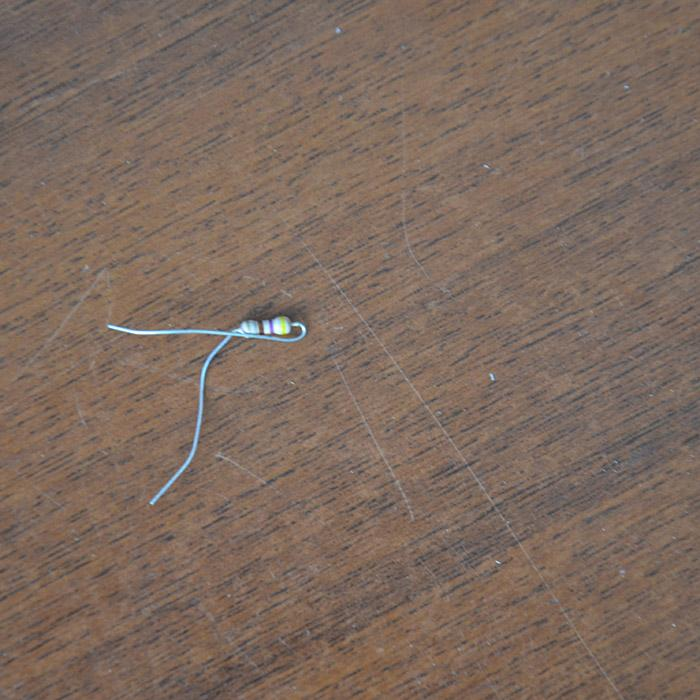resistor: (242, 314, 293, 335)
